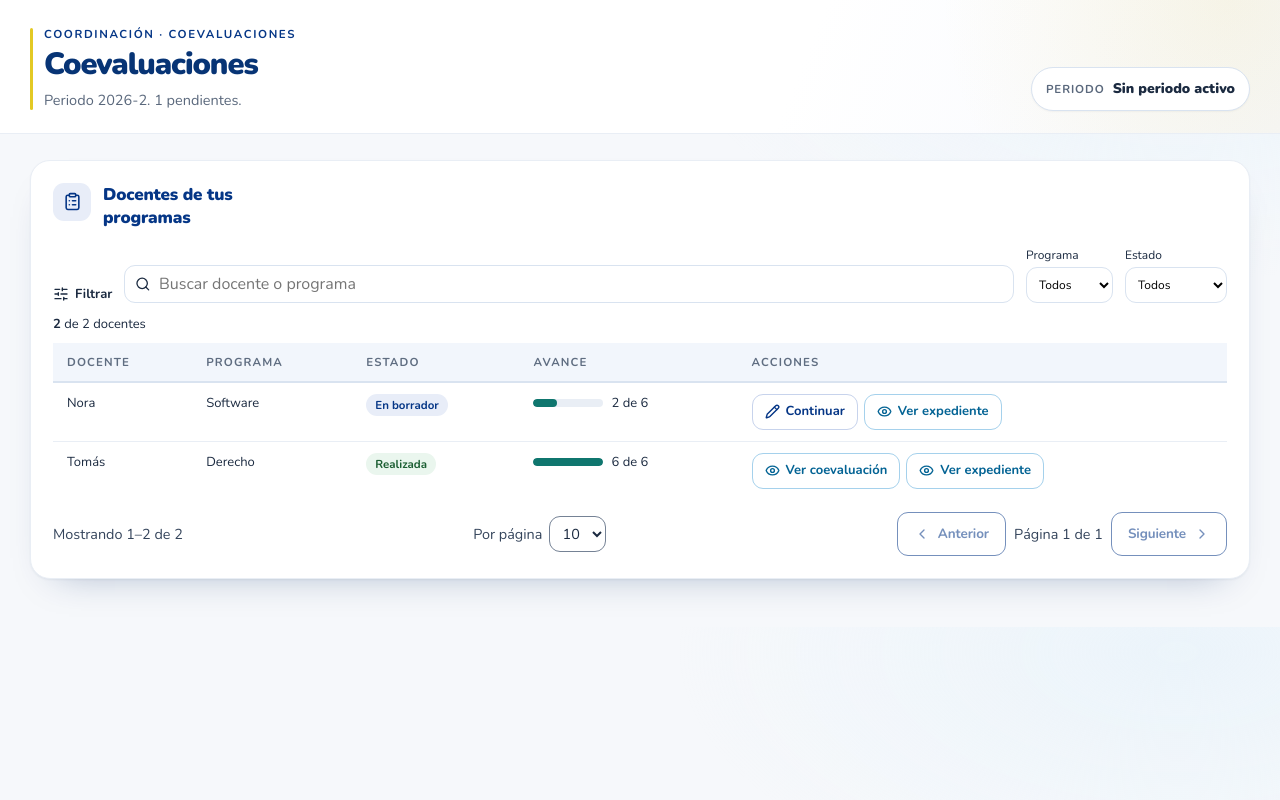
Test case: Coevaluaciones › marca como realizada la coevaluación enviada y filtra por estado
Expected: the text "Realizada" is shown, x1=366 y1=453 x2=436 y2=475
Select "Realizada" in the dropdown labelled "Estado": (1176, 285) x1=1125 y1=267 x2=1227 y2=303
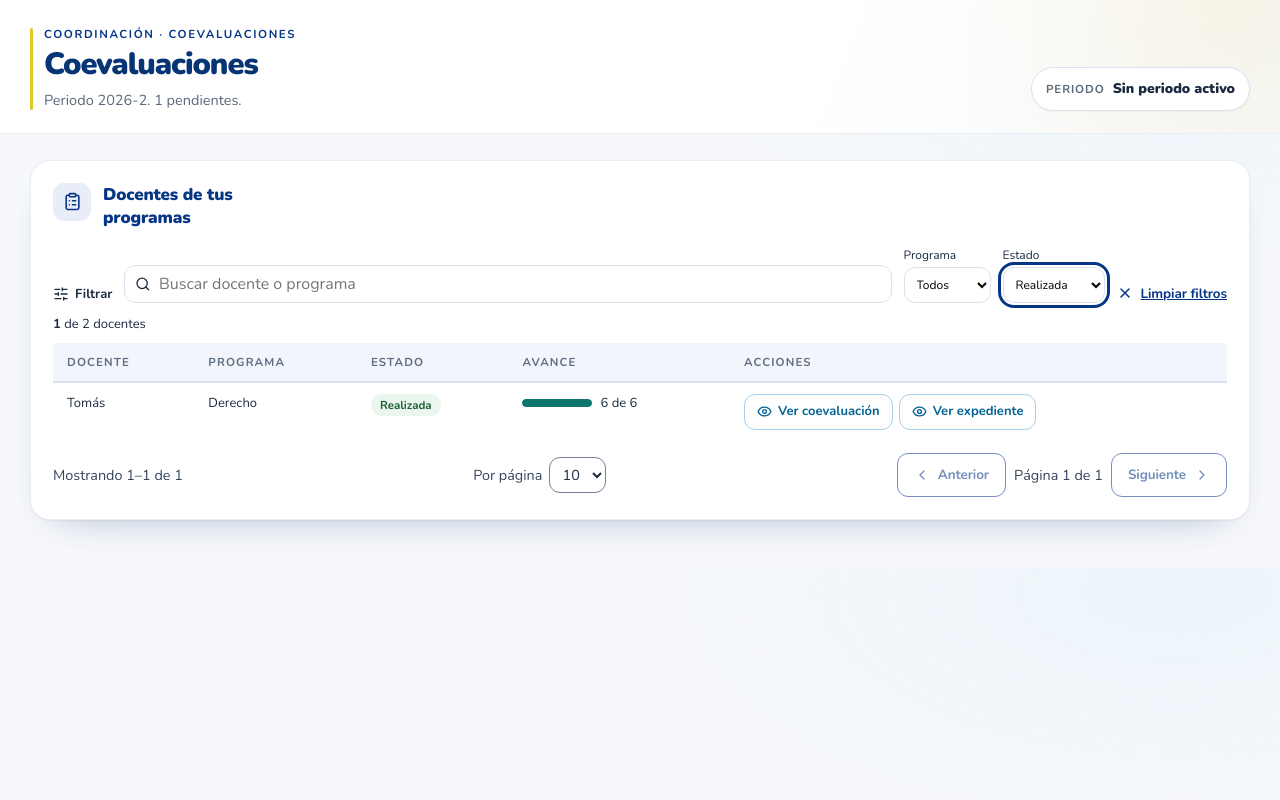
Now the text "1" is shown, box x1=53 y1=315 x2=61 y2=333
